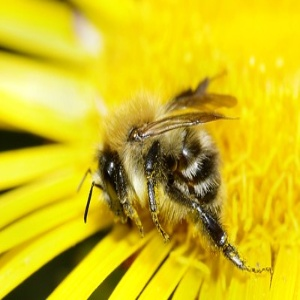bee: (92, 79, 258, 272)
